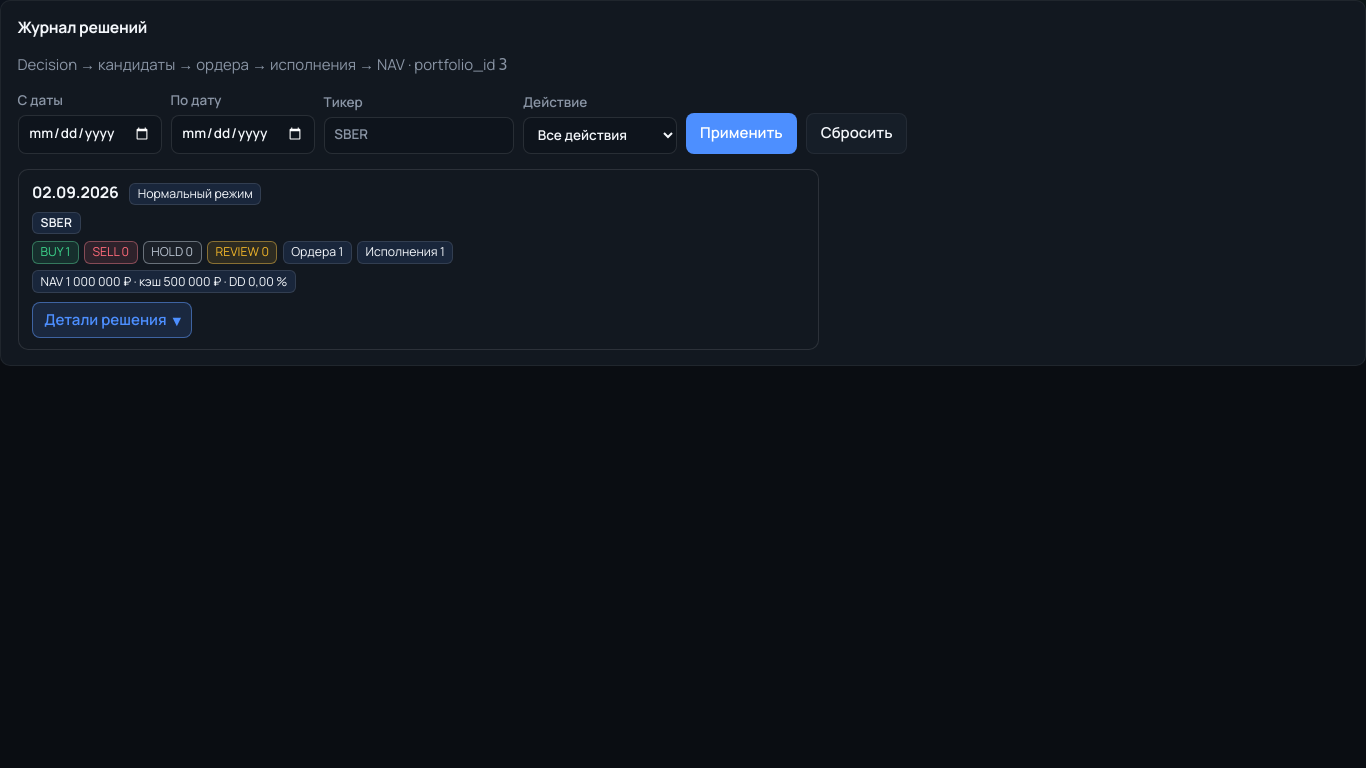
Test: DecisionJournalPanel V4 › links partial fills by real order_id only
Click the button with test id "shadow-journal-day-toggle".
click(112, 320)  # box [32,302,192,338]
(page scrolled)
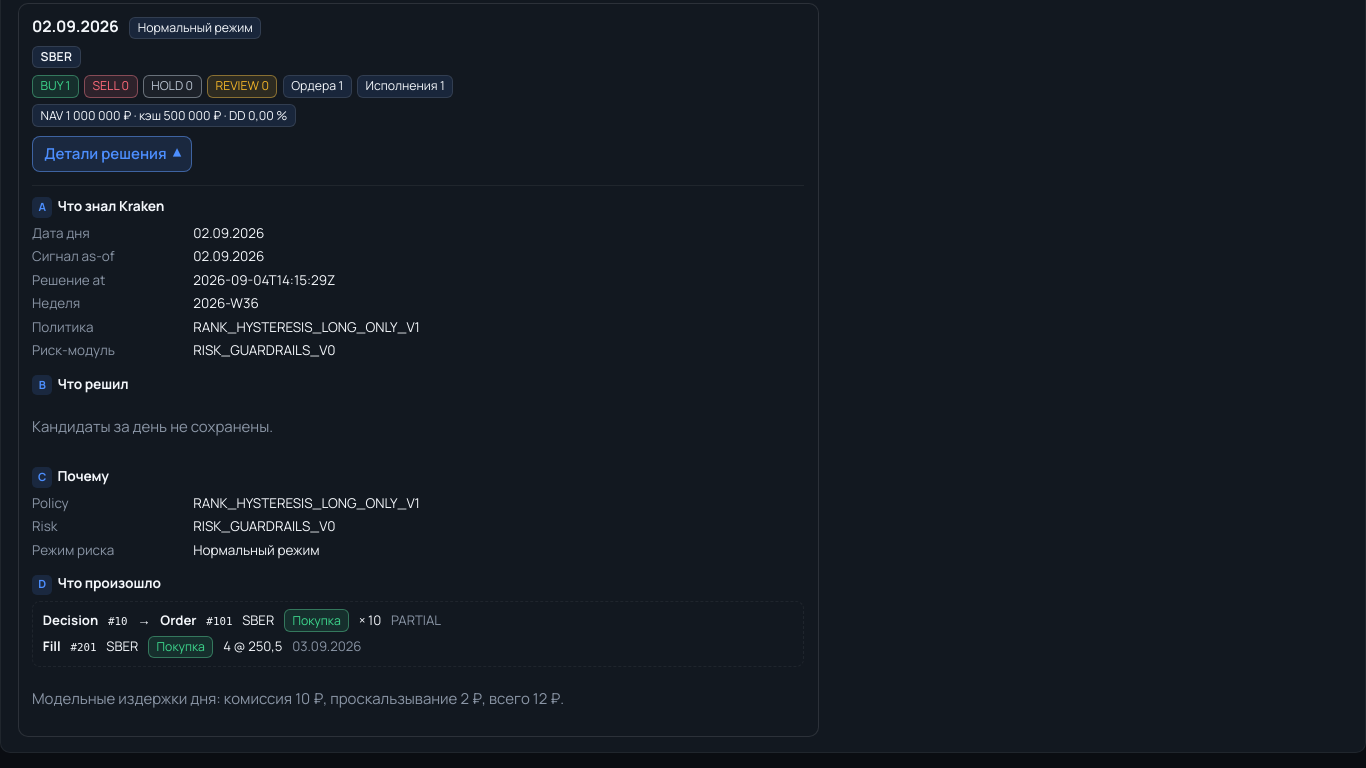
Result: the element with test id "shadow-journal-day-expanded" is shown at [32,185,804,725]
Result: the list item with test id "shadow-journal-order-101" shows "#10" at [32,601,804,666]
Result: the list item with test id "shadow-journal-order-101" shows "#101" at [32,601,804,666]
